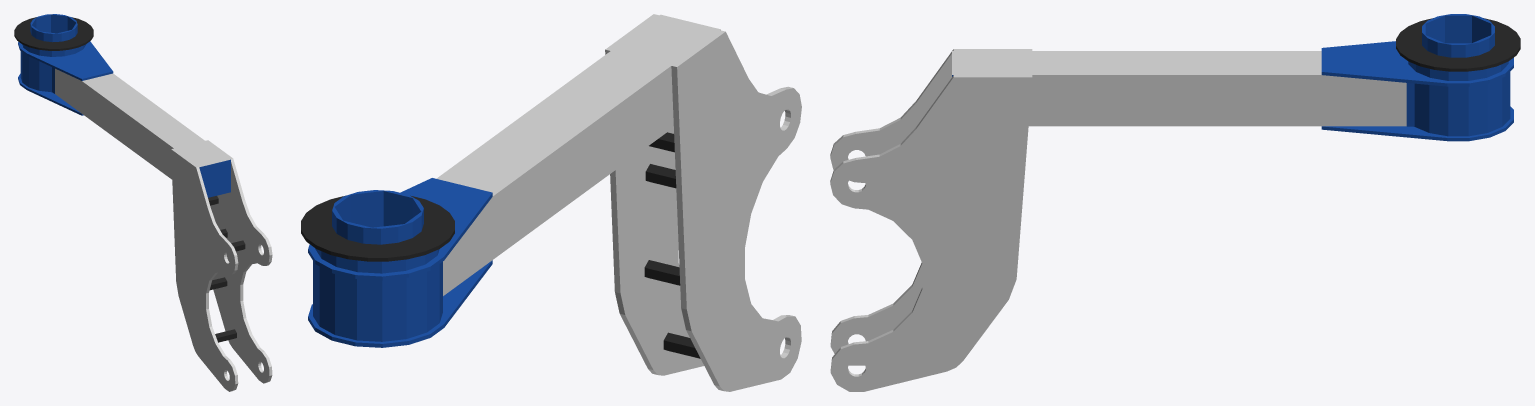
File: arm.obj
3 renders of one model, left to right at view 1: azimuth 30°, elevation 25°; view 2: azimuth 150°, elevation 25°; view 3: azimuth 270°, elevation 25°, orthographic. The views are drawn at different scales.
Parts seen in each view (by area): view 1: mesh179, mesh243, mesh66, mesh68, mesh119, mesh154, mesh32, mesh82, mesh81, mesh113, mesh106, mesh114; view 2: mesh179, mesh66, mesh68, mesh243, mesh154, mesh119, mesh77, mesh78, mesh65, mesh76, mesh79, mesh106 (+6 smaller); view 3: mesh244, mesh67, mesh66, mesh212, mesh119, mesh154, mesh72, mesh73, mesh71, mesh106, mesh74, mesh116 (+1 smaller).
Boxes of the visible parts, x1,y1,x2,y2 form: mesh179: (171, 149, 235, 391); mesh243: (210, 162, 269, 383); mesh66: (82, 73, 232, 167); mesh68: (55, 68, 173, 179); mesh119: (18, 41, 112, 78); mesh154: (14, 17, 93, 48); mesh32: (199, 159, 230, 197); mesh82: (39, 61, 51, 92); mesh81: (29, 56, 39, 90); mesh113: (51, 14, 67, 33); mesh106: (18, 73, 80, 112); mesh114: (36, 14, 50, 32); mesh179: (677, 31, 801, 391); mesh66: (436, 14, 725, 196); mesh68: (443, 66, 673, 295); mesh243: (615, 127, 704, 375); mesh154: (301, 195, 454, 257); mesh119: (308, 178, 492, 276); mesh77: (357, 279, 382, 341); mesh78: (382, 278, 406, 341); mesh65: (671, 66, 686, 309); mesh76: (335, 274, 356, 340); mesh79: (406, 272, 426, 338); mesh106: (308, 261, 491, 343); mesh244: (830, 77, 1032, 391); mesh67: (1028, 75, 1406, 126); mesh66: (952, 49, 1321, 77); mesh212: (830, 54, 951, 365); mesh119: (1321, 41, 1513, 83); mesh154: (1396, 18, 1520, 68); mesh72: (1448, 86, 1468, 136); mesh73: (1468, 83, 1487, 136); mesh71: (1429, 85, 1448, 136); mesh106: (1322, 106, 1513, 137); mesh74: (1487, 78, 1502, 132); mesh116: (1445, 15, 1471, 43).
Size of the model in its own units: 0.1117 by 0.3445 by 0.6189.
